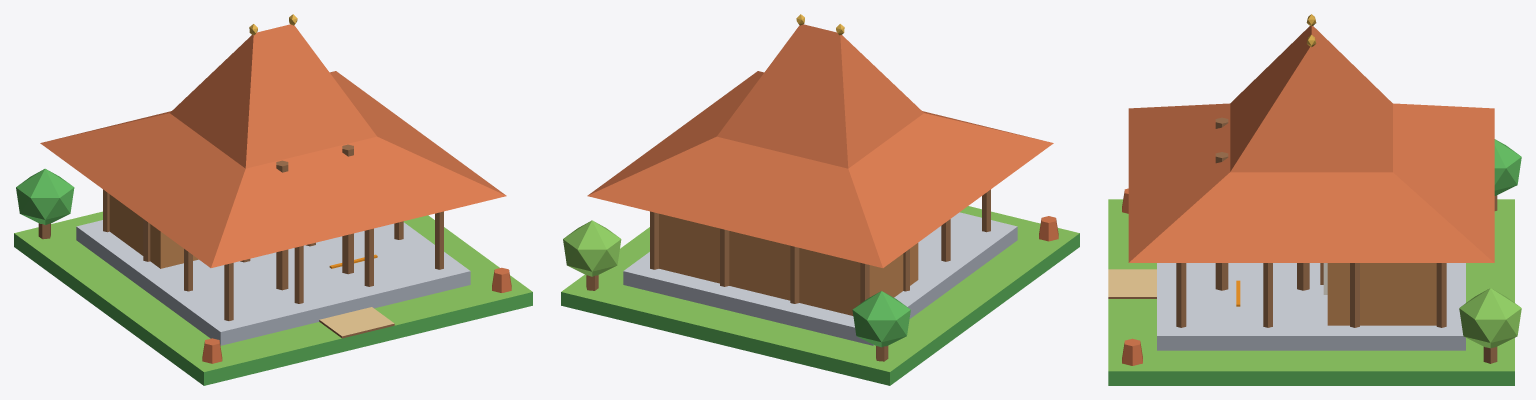
File: house_joglo.glb
The picture shows the model from 3 angles, left to right: view 1: azimuth 30°, elevation 25°; view 2: azimuth 150°, elevation 25°; view 3: azimuth 270°, elevation 25°; orthographic projection. The views are drawn at different scales.
Visible parts, largest first — view 1: house_joglo; view 2: house_joglo; view 3: house_joglo.
Part boxes in pixels (left/top/right/bottom): house_joglo: left=14, top=14, right=532, bottom=385; house_joglo: left=561, top=14, right=1079, bottom=385; house_joglo: left=1108, top=14, right=1521, bottom=385.
Bounding box in the file's own units: 1.03 × 0.748 × 1.02.
